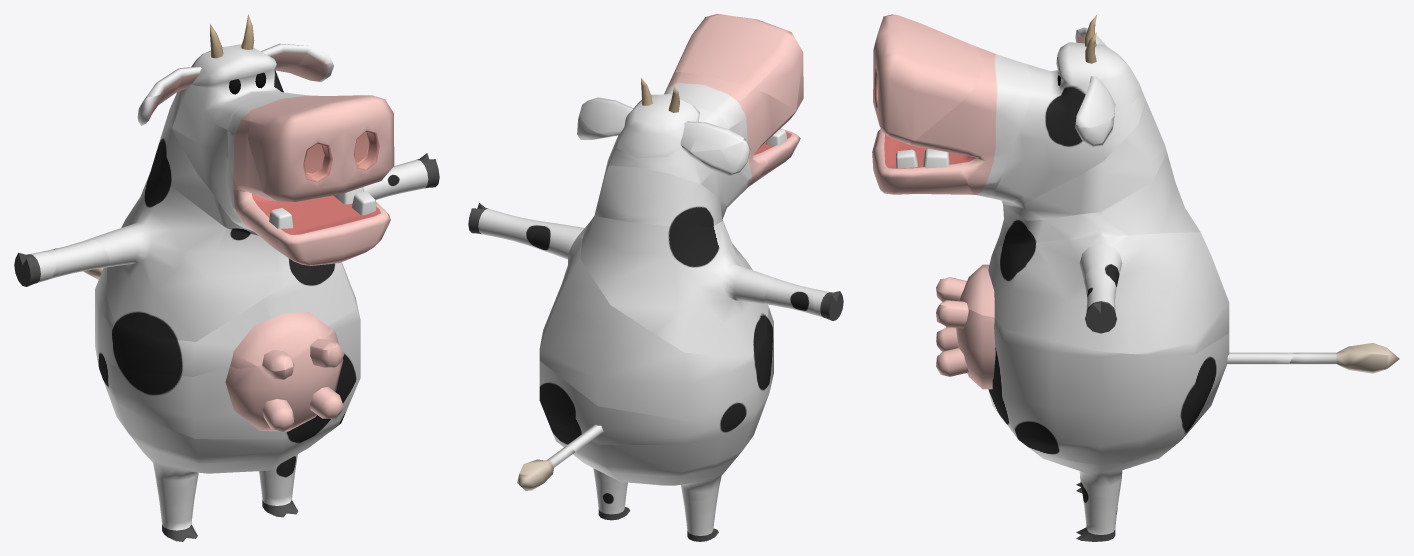
File: koe_sliced.fbx
3 views of the same model, side by side, from view 1: azimuth 30°, elevation 25°; view 2: azimuth 150°, elevation 25°; view 3: azimuth 270°, elevation 25° (orthographic). The views are drawn at different scales.
Visible parts, largest first — view 1: slice16, slice2, slice1, slice13, slice3, slice, slice4, slice18, slice14, slice15, slice17, slice8 (+4 smaller); view 2: slice16, slice1, slice2, slice13, slice4, slice15, slice18, slice14, slice, slice17, slice8, slice12 (+6 smaller); view 3: slice2, slice1, slice13, slice, slice14, slice16, slice15, slice4, slice3, slice18, slice5, slice8 (+4 smaller).
Boxes of the visible parts, x1=… form: slice16: x1=90, y1=142, x2=297, y2=341; slice2: x1=95, y1=289, x2=360, y2=439; slice1: x1=95, y1=262, x2=356, y2=376; slice13: x1=248, y1=95, x2=394, y2=201; slice3: x1=242, y1=187, x2=390, y2=265; slice: x1=137, y1=63, x2=333, y2=230; slice4: x1=146, y1=14, x2=332, y2=97; slice18: x1=104, y1=383, x2=342, y2=463; slice14: x1=227, y1=93, x2=318, y2=227; slice15: x1=159, y1=94, x2=259, y2=236; slice17: x1=133, y1=438, x2=320, y2=487; slice8: x1=363, y1=153, x2=439, y2=199; slice16: x1=580, y1=216, x2=774, y2=356; slice1: x1=539, y1=228, x2=773, y2=421; slice2: x1=539, y1=337, x2=773, y2=445; slice13: x1=673, y1=14, x2=803, y2=110; slice4: x1=579, y1=78, x2=744, y2=158; slice15: x1=594, y1=165, x2=726, y2=226; slice18: x1=550, y1=411, x2=762, y2=477; slice14: x1=664, y1=72, x2=796, y2=188; slice: x1=577, y1=107, x2=750, y2=207; slice17: x1=574, y1=455, x2=735, y2=500; slice8: x1=468, y1=203, x2=550, y2=246; slice12: x1=682, y1=491, x2=718, y2=541; slice2: x1=936, y1=288, x2=1229, y2=445; slice1: x1=936, y1=232, x2=1229, y2=354; slice13: x1=873, y1=14, x2=981, y2=143; slice: x1=989, y1=30, x2=1145, y2=205; slice14: x1=906, y1=47, x2=1031, y2=197; slice16: x1=995, y1=152, x2=1200, y2=246; slice15: x1=1001, y1=100, x2=1166, y2=220; slice4: x1=1056, y1=14, x2=1141, y2=127; slice3: x1=872, y1=128, x2=973, y2=194; slice18: x1=989, y1=379, x2=1221, y2=464; slice5: x1=1288, y1=343, x2=1399, y2=373; slice8: x1=1084, y1=267, x2=1117, y2=333.
Bounding box in the file's own units: 10.22 × 11.98 × 11.72.
